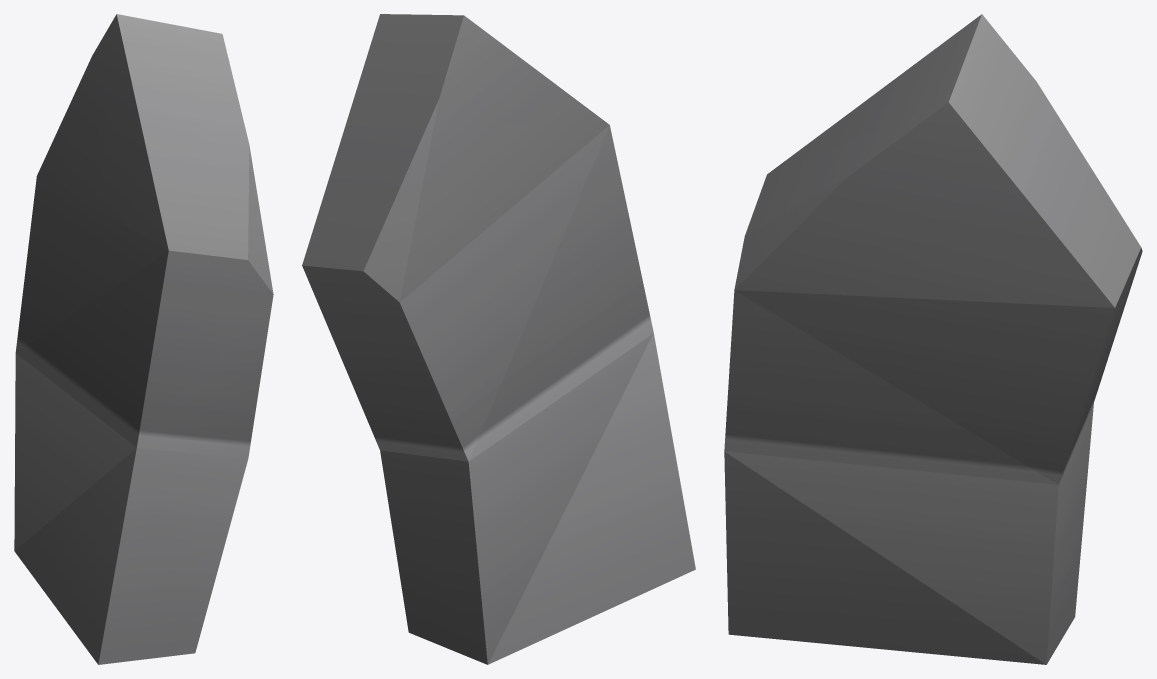
The model's file is ea_grave_stone_mini_01c_pre__20__lev1.glb.
The picture shows the model from 3 angles, left to right: view 1: azimuth 30°, elevation 25°; view 2: azimuth 150°, elevation 25°; view 3: azimuth 270°, elevation 25°; orthographic projection. The views are drawn at different scales.
Visible parts, largest first — view 1: ea_grave_stone_mini_01c_pre__20__lev1; view 2: ea_grave_stone_mini_01c_pre__20__lev1; view 3: ea_grave_stone_mini_01c_pre__20__lev1.
Part boxes in pixels (x1,y1,x2,y2): ea_grave_stone_mini_01c_pre__20__lev1: [14, 14, 273, 664]; ea_grave_stone_mini_01c_pre__20__lev1: [302, 14, 695, 664]; ea_grave_stone_mini_01c_pre__20__lev1: [724, 14, 1142, 664].
Bounding box in the file's own units: 0.443 × 1.13 × 0.6701.
1 material, 1 textured.
